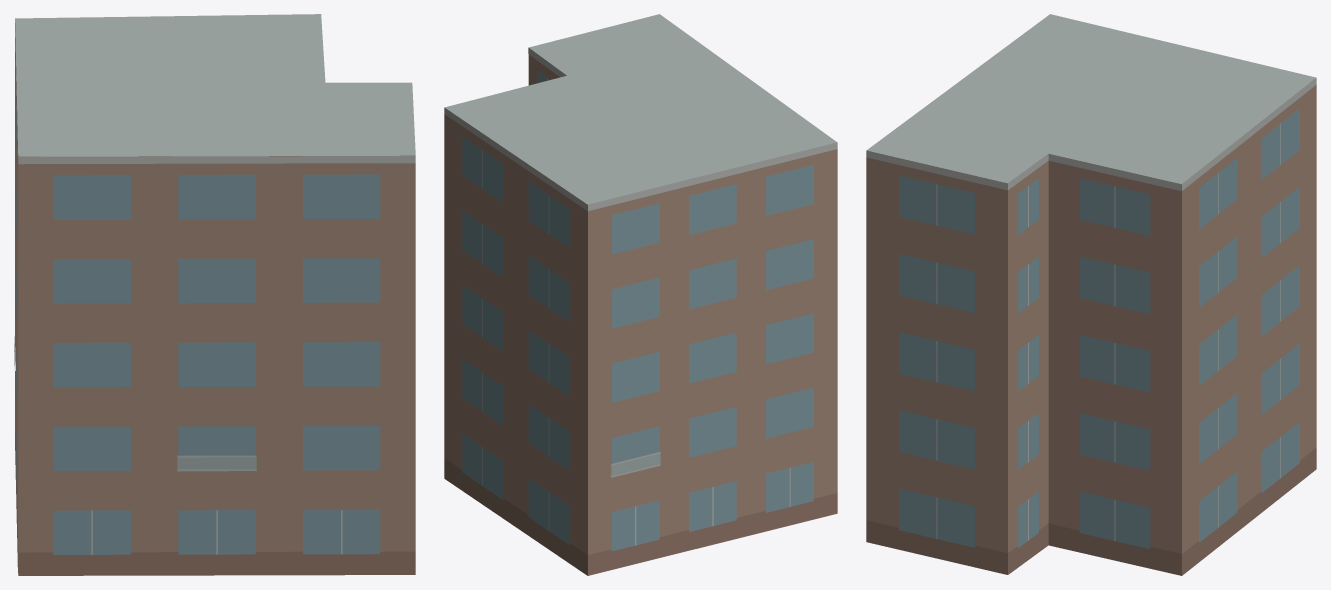
File: survey-upis-32884953.glb
The picture shows the model from 3 angles, left to right: view 1: azimuth 30°, elevation 25°; view 2: azimuth 150°, elevation 25°; view 3: azimuth 270°, elevation 25°; orthographic projection. The views are drawn at different scales.
Visible parts, largest first — view 1: survey-upis-32884953.tmp; view 2: survey-upis-32884953.tmp; view 3: survey-upis-32884953.tmp.
Part boxes in pixels (x1,y1,x2,y2): survey-upis-32884953.tmp: (14, 14, 415, 575); survey-upis-32884953.tmp: (444, 14, 837, 575); survey-upis-32884953.tmp: (866, 14, 1316, 575).
Size of the model in its own units: 12.88 by 13.8 by 14.39.
